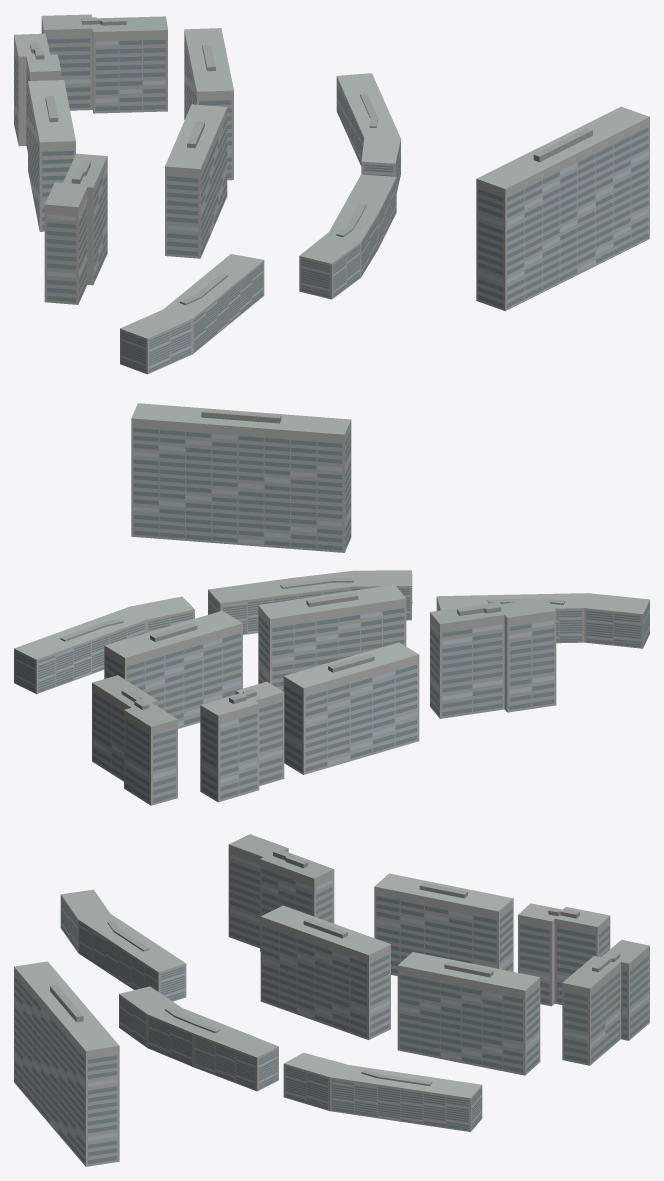
Rendered from apt-a13308004.glb.
The picture shows the model from 3 angles, top to bottom: view 1: azimuth 30°, elevation 25°; view 2: azimuth 150°, elevation 25°; view 3: azimuth 270°, elevation 25°; orthographic projection. The views are drawn at different scales.
Visible parts, largest first — view 1: apt-a13308004; view 2: apt-a13308004; view 3: apt-a13308004.
Part boxes in pixels (left/top/right/bottom): apt-a13308004: left=14, top=14, right=649, bottom=374; apt-a13308004: left=14, top=403, right=649, bottom=805; apt-a13308004: left=14, top=834, right=649, bottom=1166.
Bounding box in the file's own units: 206 × 47.81 × 228.
